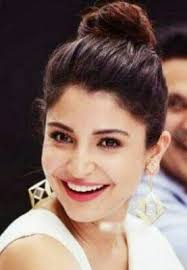indian_female: (34, 11, 171, 244)
